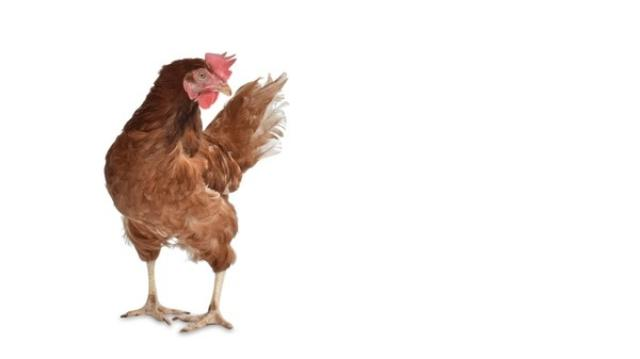Chicken: (105, 50, 289, 333)
